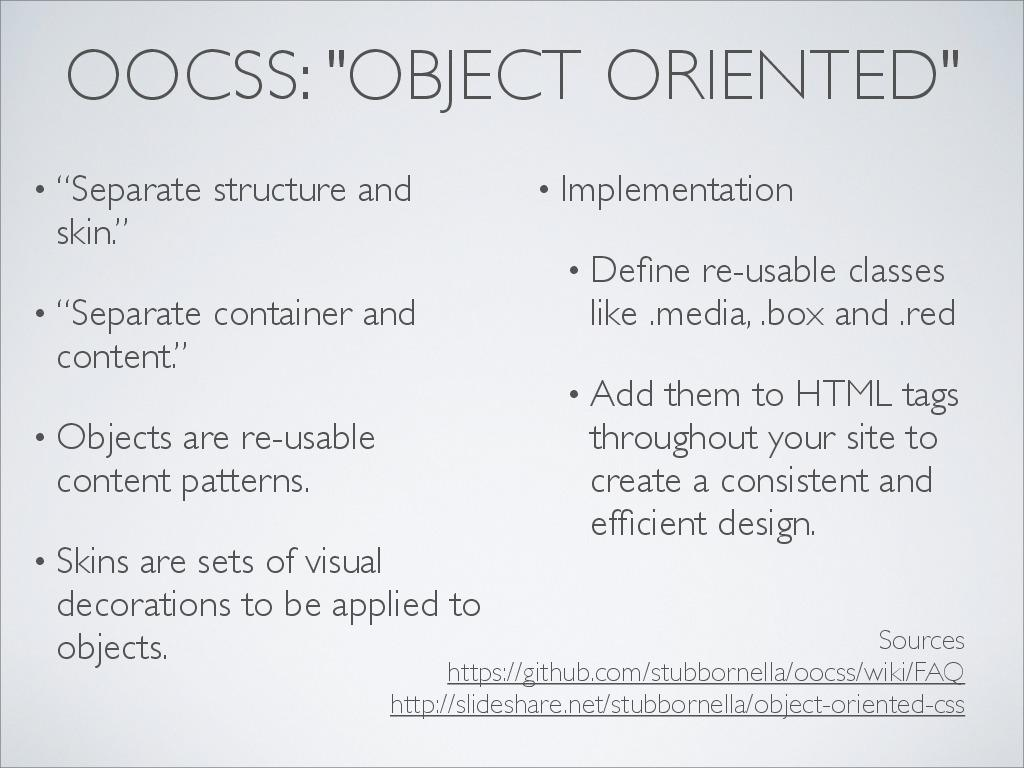paragraph: (12, 156, 999, 692)
title: (49, 22, 983, 128)
